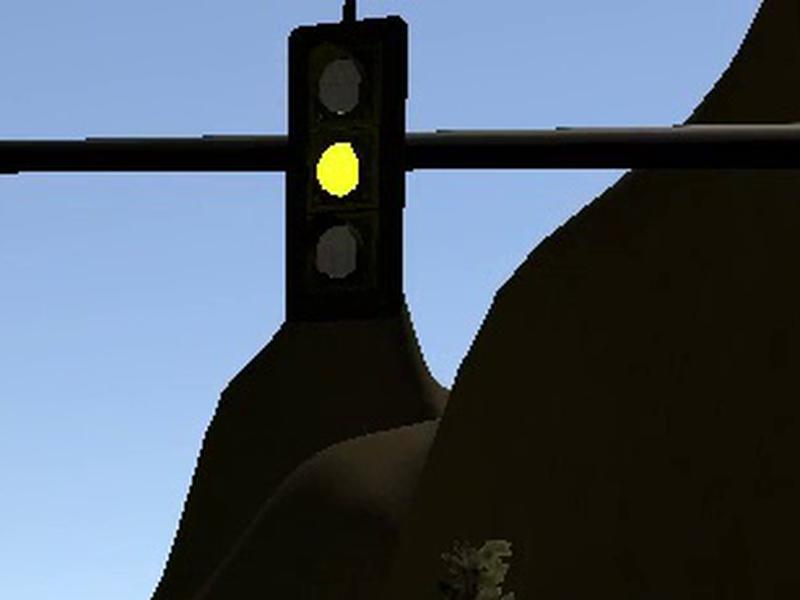Yellow: (284, 15, 408, 324)
